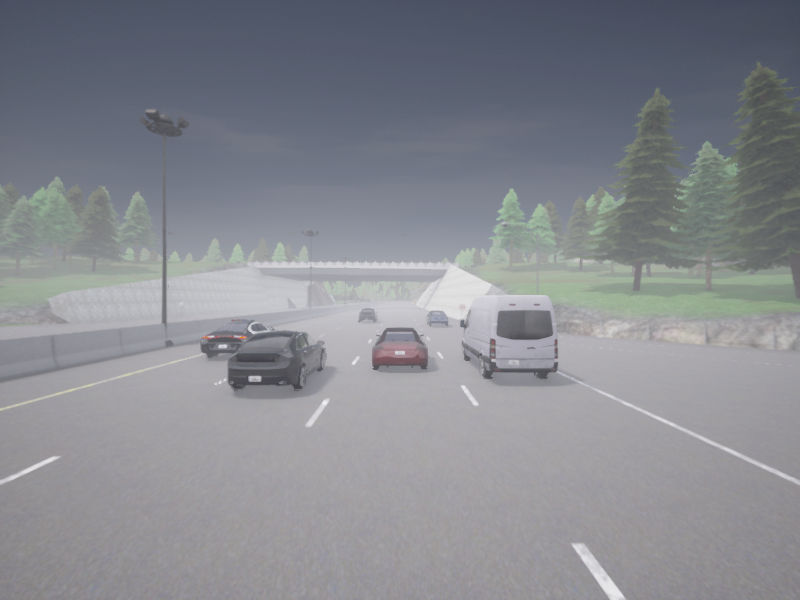vehicle: (460, 295, 557, 378), (227, 330, 325, 389), (200, 319, 273, 357), (372, 327, 427, 368), (425, 310, 448, 325), (359, 308, 378, 321)
